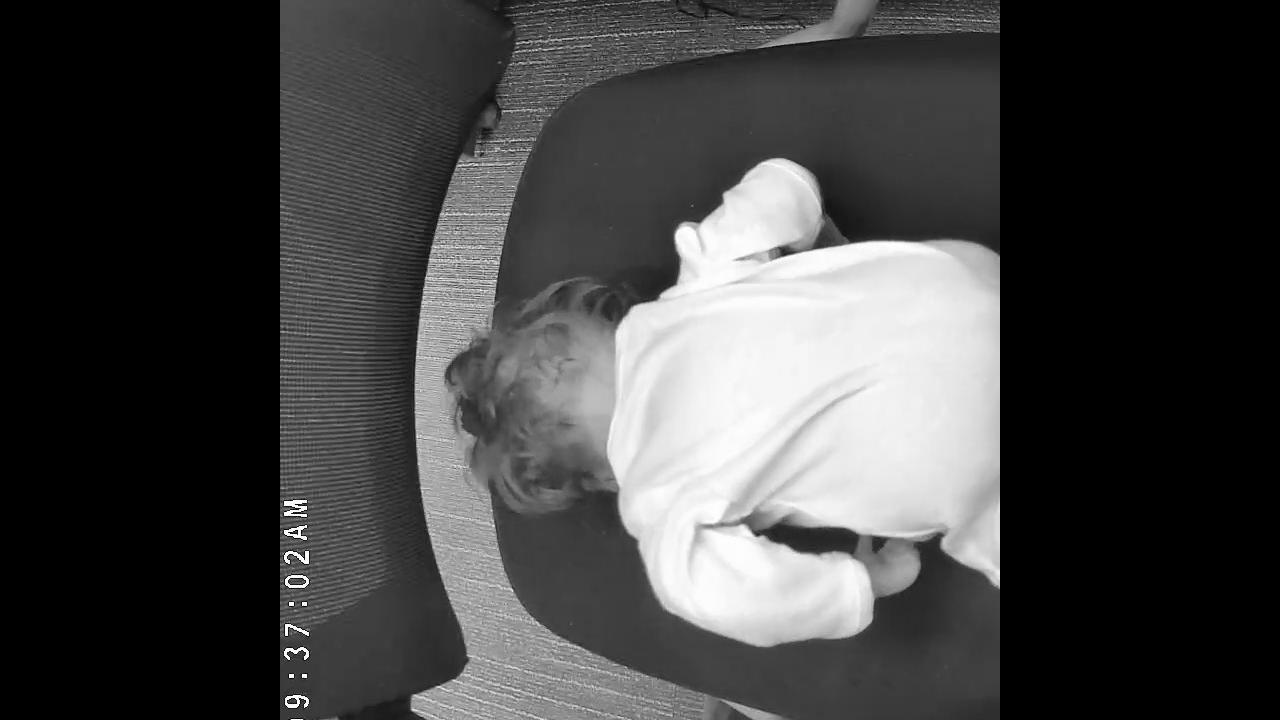hand: (852, 533, 925, 590)
